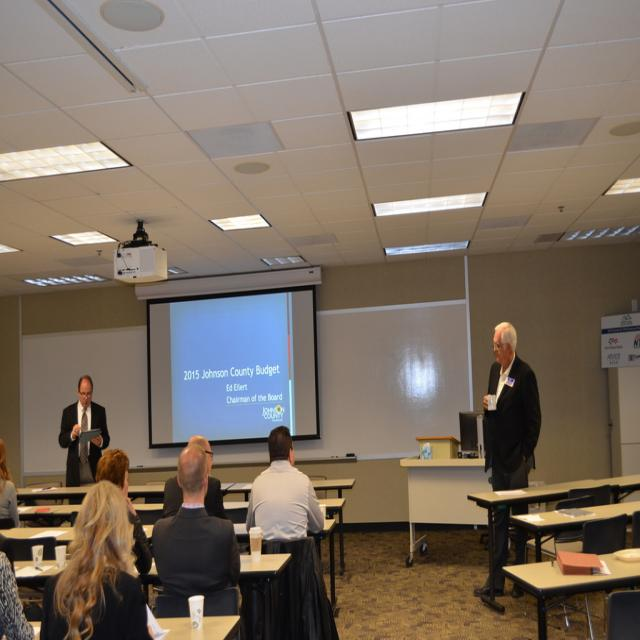chair: (605, 590, 640, 639), (200, 587, 240, 617)
desk: (389, 440, 496, 565)
person: (43, 448, 164, 638), (478, 323, 541, 612), (152, 435, 242, 614), (246, 424, 326, 542), (58, 374, 110, 488), (0, 545, 35, 639), (0, 438, 19, 529)
tv: (147, 291, 309, 453)
